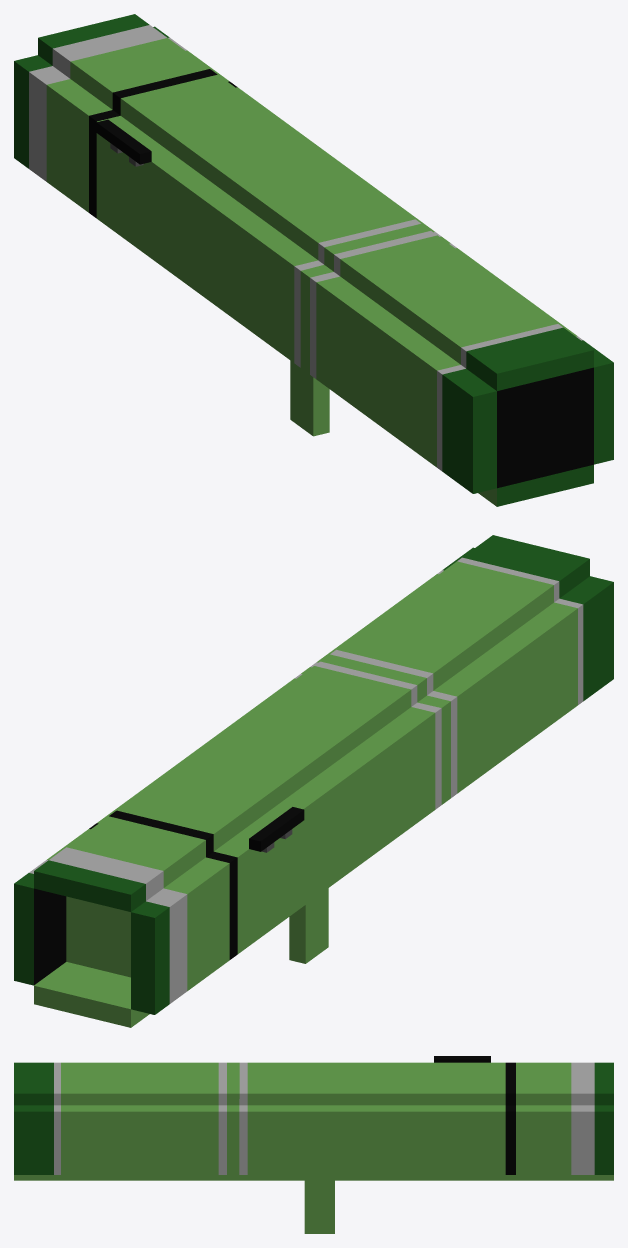
The model's file is Bazooka.fbx.
3 renders of one model, top to bottom at view 1: azimuth 30°, elevation 25°; view 2: azimuth 150°, elevation 25°; view 3: azimuth 270°, elevation 25°, orthographic. The views are drawn at different scales.
Parts seen in each view (by area): view 1: Ace_Of_Spades_Rocket_Launcher_1; view 2: Ace_Of_Spades_Rocket_Launcher_1; view 3: Ace_Of_Spades_Rocket_Launcher_1.
Part boxes in pixels (<box>): Ace_Of_Spades_Rocket_Launcher_1: <box>14,14,613,506</box>; Ace_Of_Spades_Rocket_Launcher_1: <box>14,535,613,1027</box>; Ace_Of_Spades_Rocket_Launcher_1: <box>14,1056,613,1233</box>.
Bounding box in the file's own units: 11.13 × 16.38 × 58.
